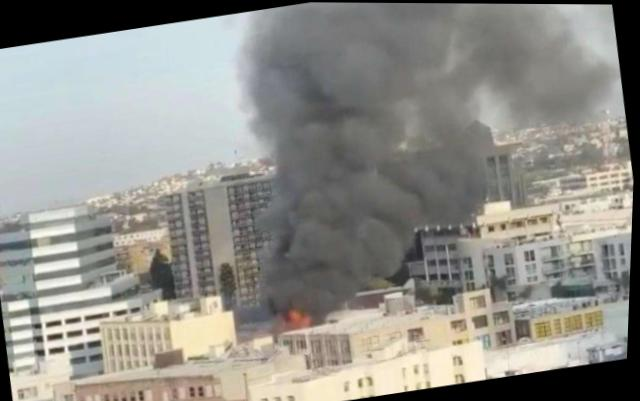fire: (275, 301, 321, 335)
